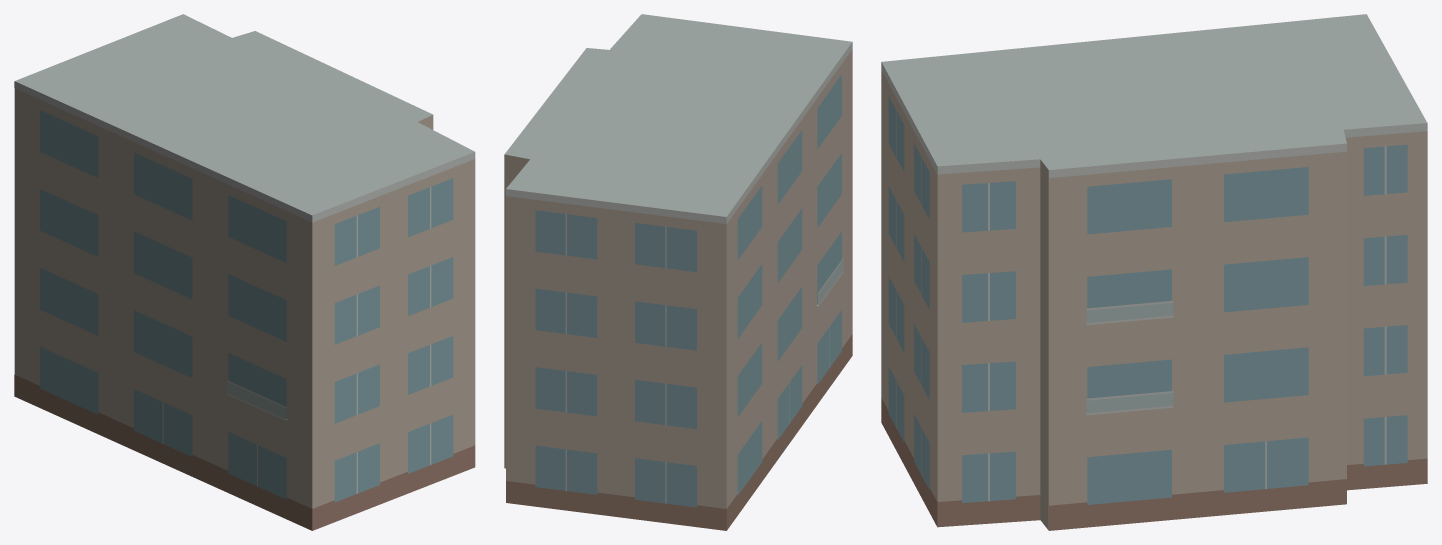
File: survey-upis-32619853.glb
3 renders of one model, left to right at view 1: azimuth 30°, elevation 25°; view 2: azimuth 150°, elevation 25°; view 3: azimuth 270°, elevation 25°, orthographic. The views are drawn at different scales.
Visible parts, largest first — view 1: survey-upis-32619853.tmp; view 2: survey-upis-32619853.tmp; view 3: survey-upis-32619853.tmp.
Boxes of the visible parts, <box> form: survey-upis-32619853.tmp: <box>14,14,475,530</box>; survey-upis-32619853.tmp: <box>504,14,852,530</box>; survey-upis-32619853.tmp: <box>881,14,1427,530</box>.
Size of the model in its own units: 10.13 by 10.9 by 14.97.
